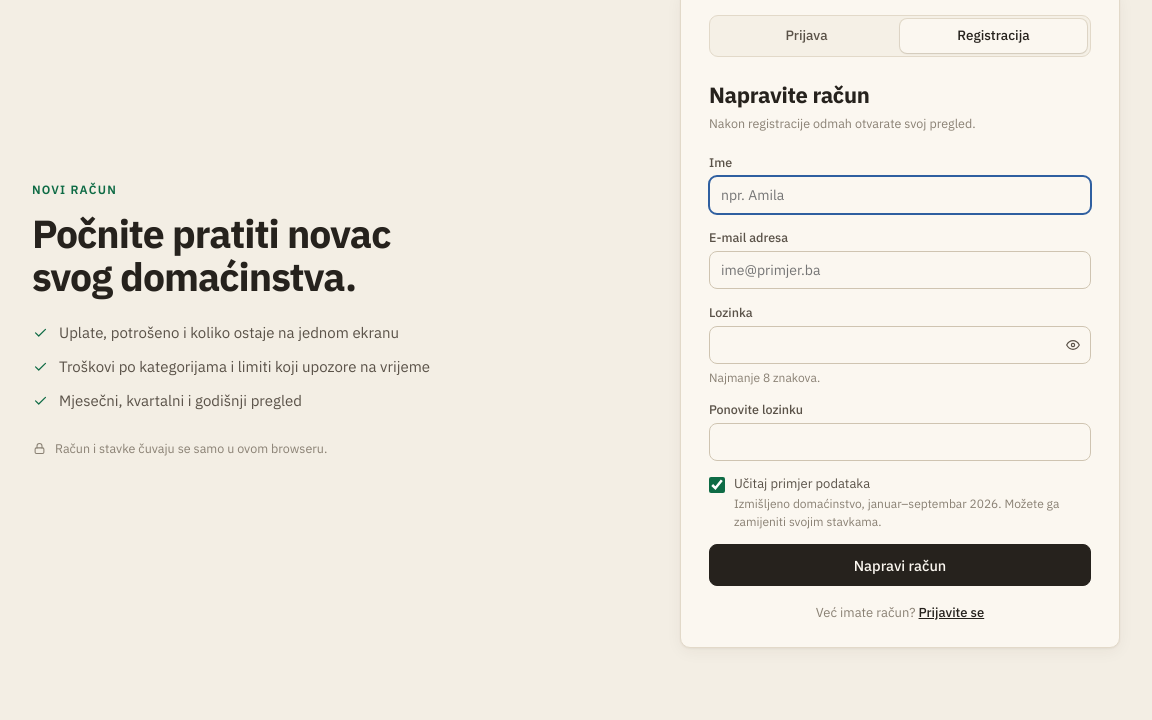
Test: registracija › prazna forma pokazuje greške i ne pravi račun
(page scrolled)
Click the button "Napravi račun".
click(900, 565)  # box [709,544,1091,586]
(page scrolled)
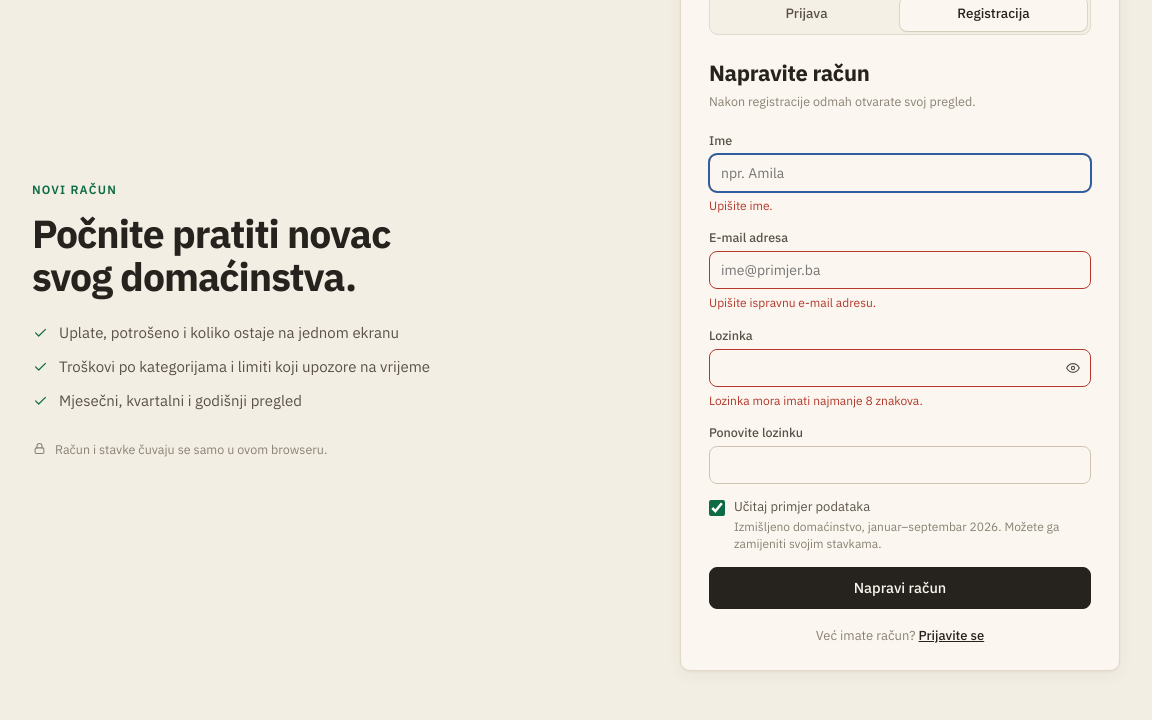
Check: the text "Upišite ime." is shown, box [709,198,773,213]
Check: the text "Upišite ispravnu e-mail adresu." is shown, box [709,295,876,310]
Check: the text "Lozinka mora imati najmanje 8 znakova." is shown, box [709,393,923,408]
